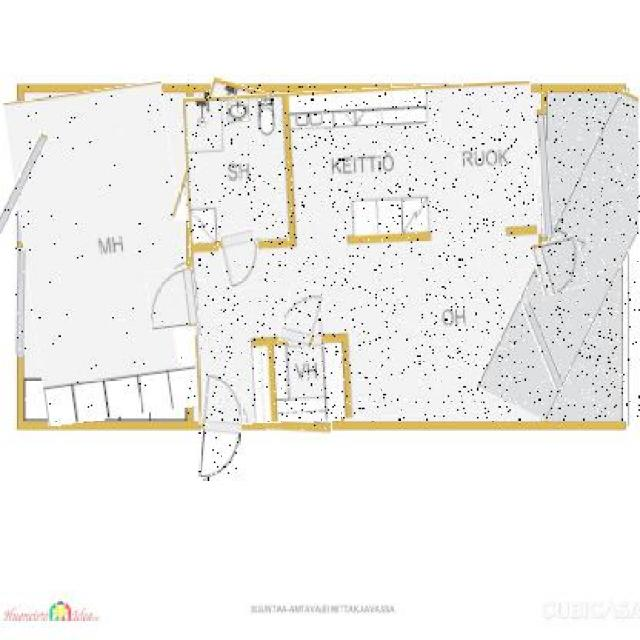door: (199, 372, 243, 480), (148, 269, 197, 331), (534, 237, 586, 294), (220, 229, 262, 289), (283, 285, 323, 346)
window: (3, 131, 37, 237), (531, 302, 555, 391), (537, 110, 551, 236), (16, 248, 27, 354)
zone: (188, 84, 542, 422), (14, 86, 194, 422), (511, 89, 640, 420), (182, 83, 298, 239), (268, 337, 335, 434)
